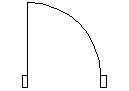door: (26, 1, 102, 90)
